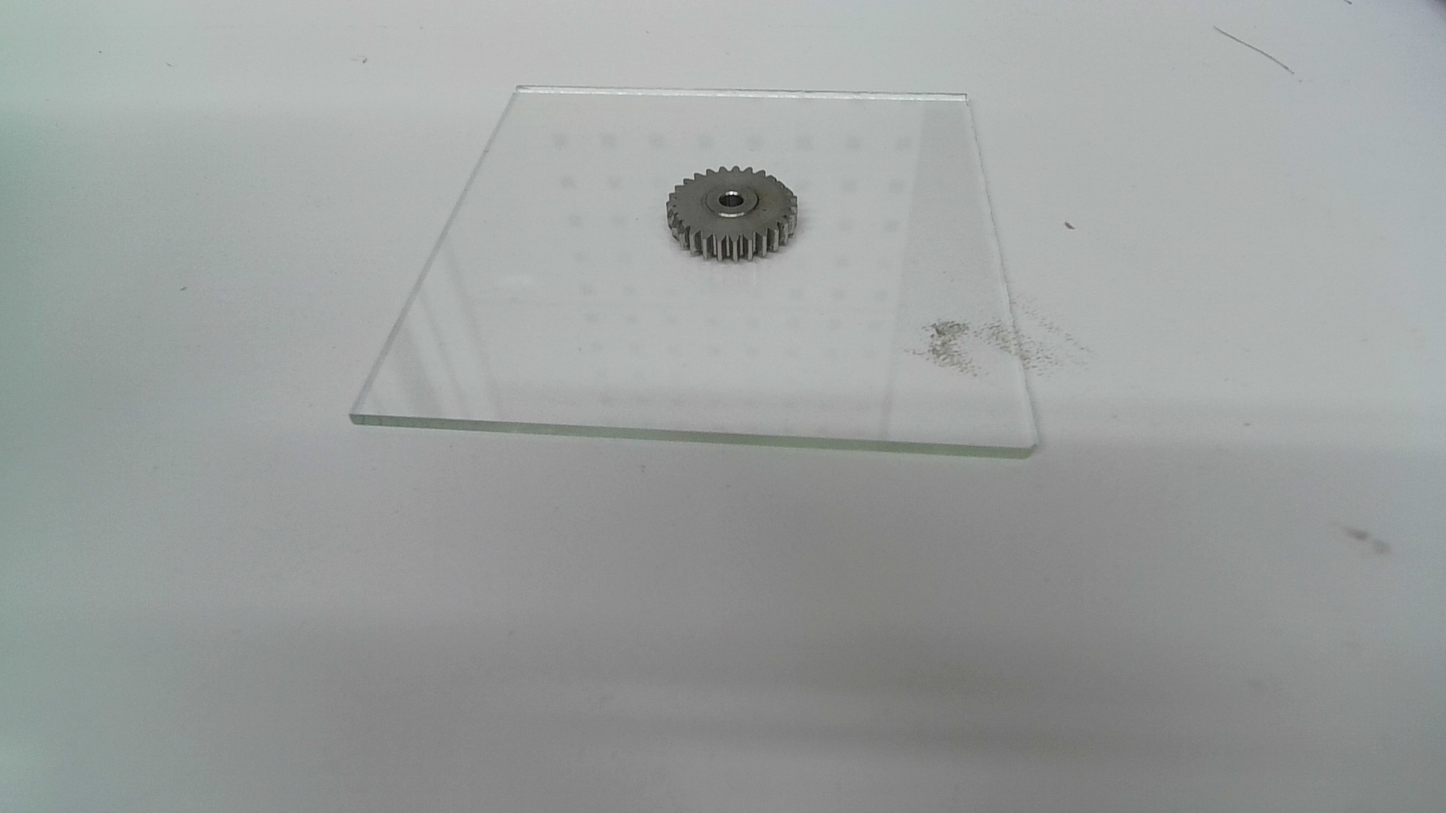gear: (663, 164, 803, 264)
